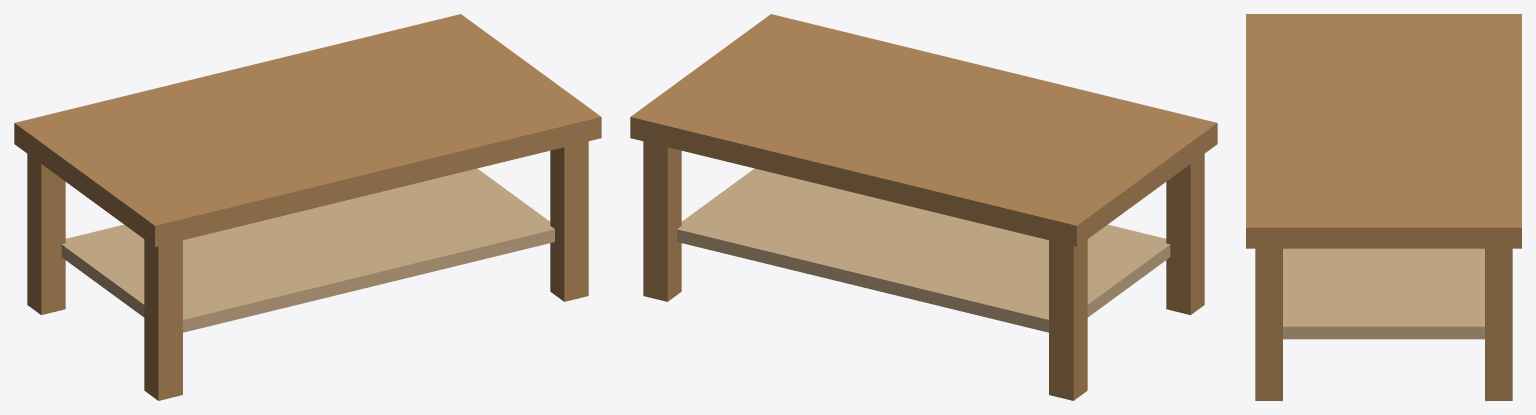
3 views of the same model, side by side, from view 1: azimuth 30°, elevation 25°; view 2: azimuth 150°, elevation 25°; view 3: azimuth 270°, elevation 25° (orthographic).
Parts seen in each view (by area): view 1: mesa_centro_lounge; view 2: mesa_centro_lounge; view 3: mesa_centro_lounge.
Part boxes in pixels (bbox=[...]): mesa_centro_lounge: bbox=[14, 14, 601, 400]; mesa_centro_lounge: bbox=[630, 14, 1217, 400]; mesa_centro_lounge: bbox=[1246, 14, 1521, 400].
Size of the model in its own units: 1.1 by 0.6 by 0.425.
